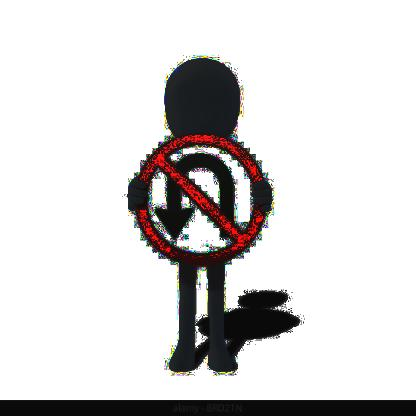No U-turn: (120, 130, 270, 266)
